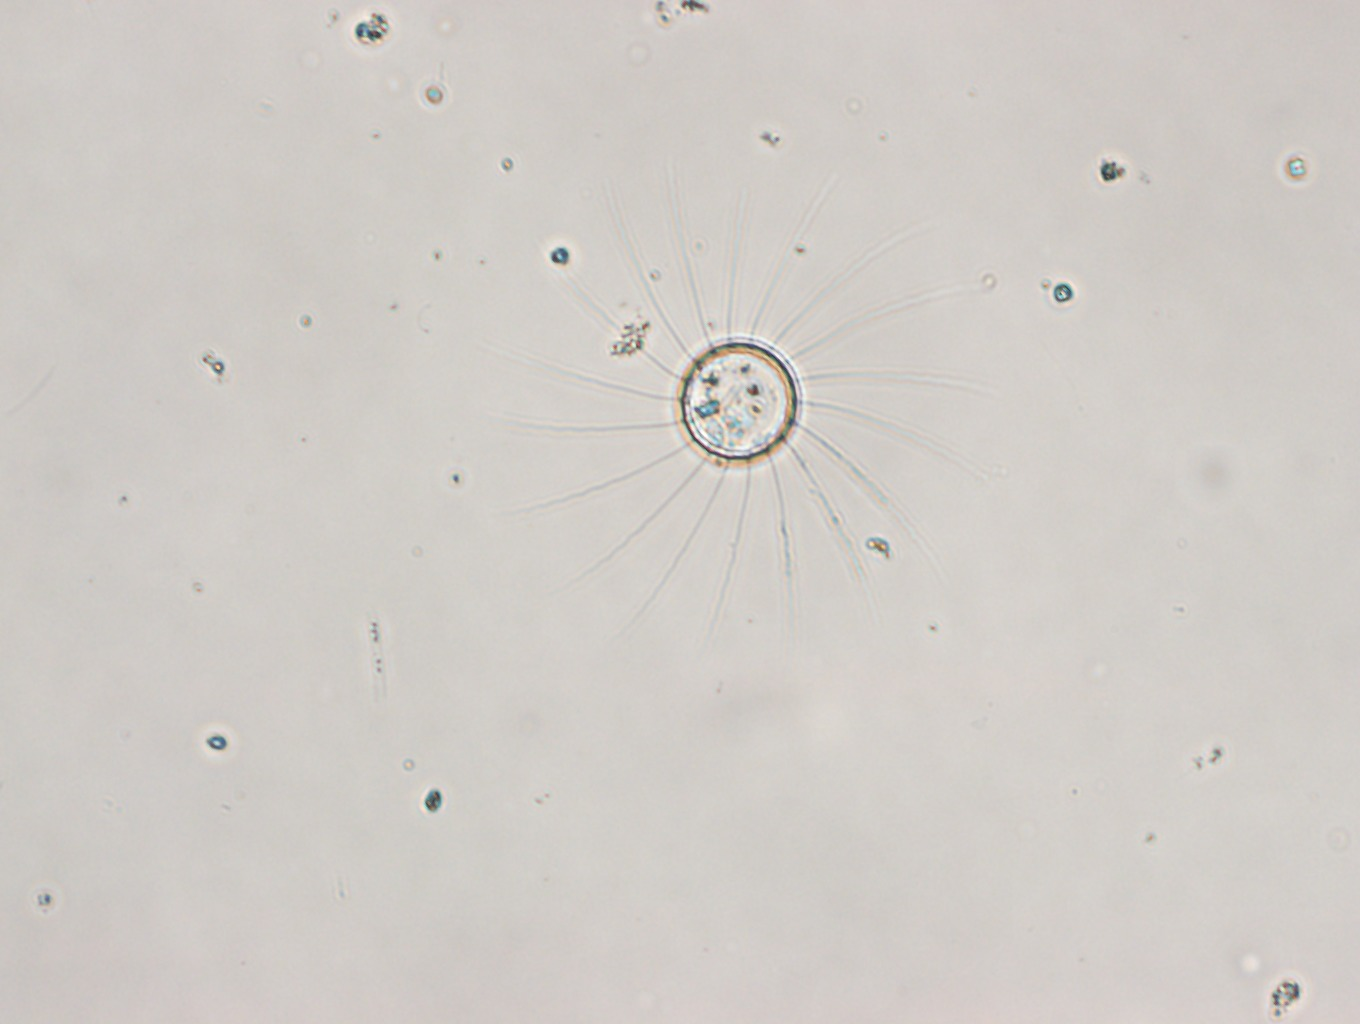bacteriastrum: (483, 158, 993, 646)
